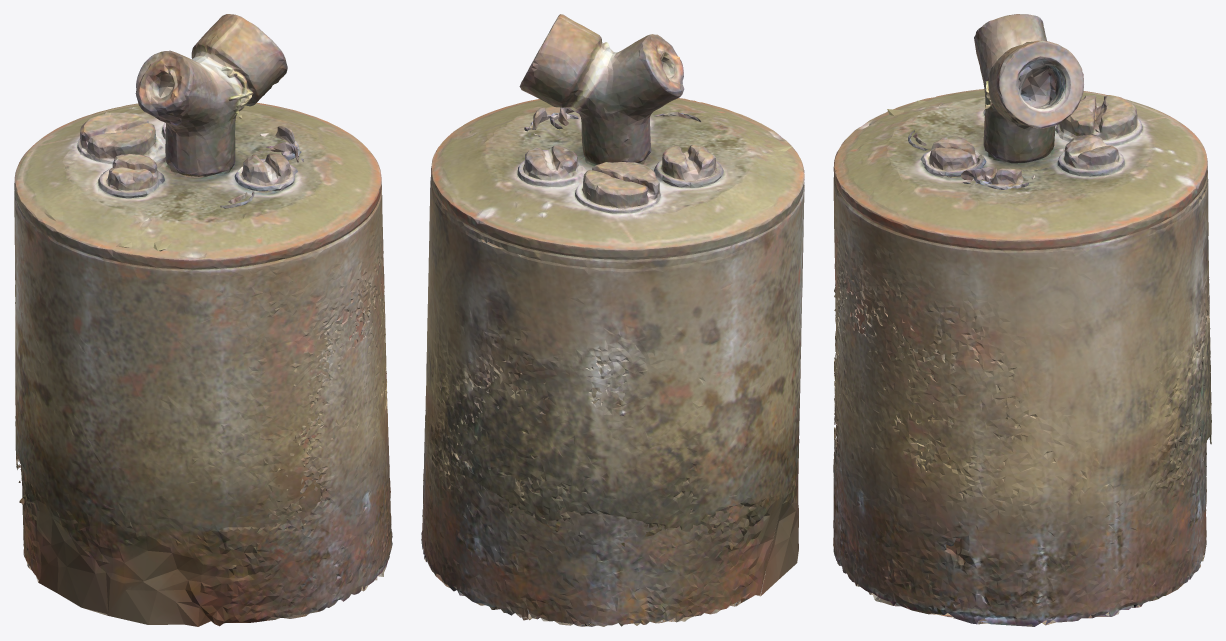
Rendered from smi-35.glb.
3 views of the same model, side by side, from view 1: azimuth 30°, elevation 25°; view 2: azimuth 150°, elevation 25°; view 3: azimuth 270°, elevation 25° (orthographic).
Parts seen in each view (by area): view 1: Object_3, Object_4, Object_5; view 2: Object_4, Object_3, Object_5; view 3: Object_3, Object_4, Object_5.
Boxes of the visible parts, x1,y1,x2,y2 form: Object_3: (14, 14, 388, 624); Object_4: (14, 102, 392, 626); Object_5: (79, 104, 389, 556); Object_4: (423, 154, 804, 626); Object_3: (421, 14, 803, 626); Object_5: (430, 92, 804, 205); Object_3: (833, 14, 1209, 626); Object_4: (833, 89, 1211, 626); Object_5: (833, 92, 1136, 553).
Bounding box in the file's own units: 1.55 × 2.34 × 1.52.
Materials: 1 (1 with a texture image).
